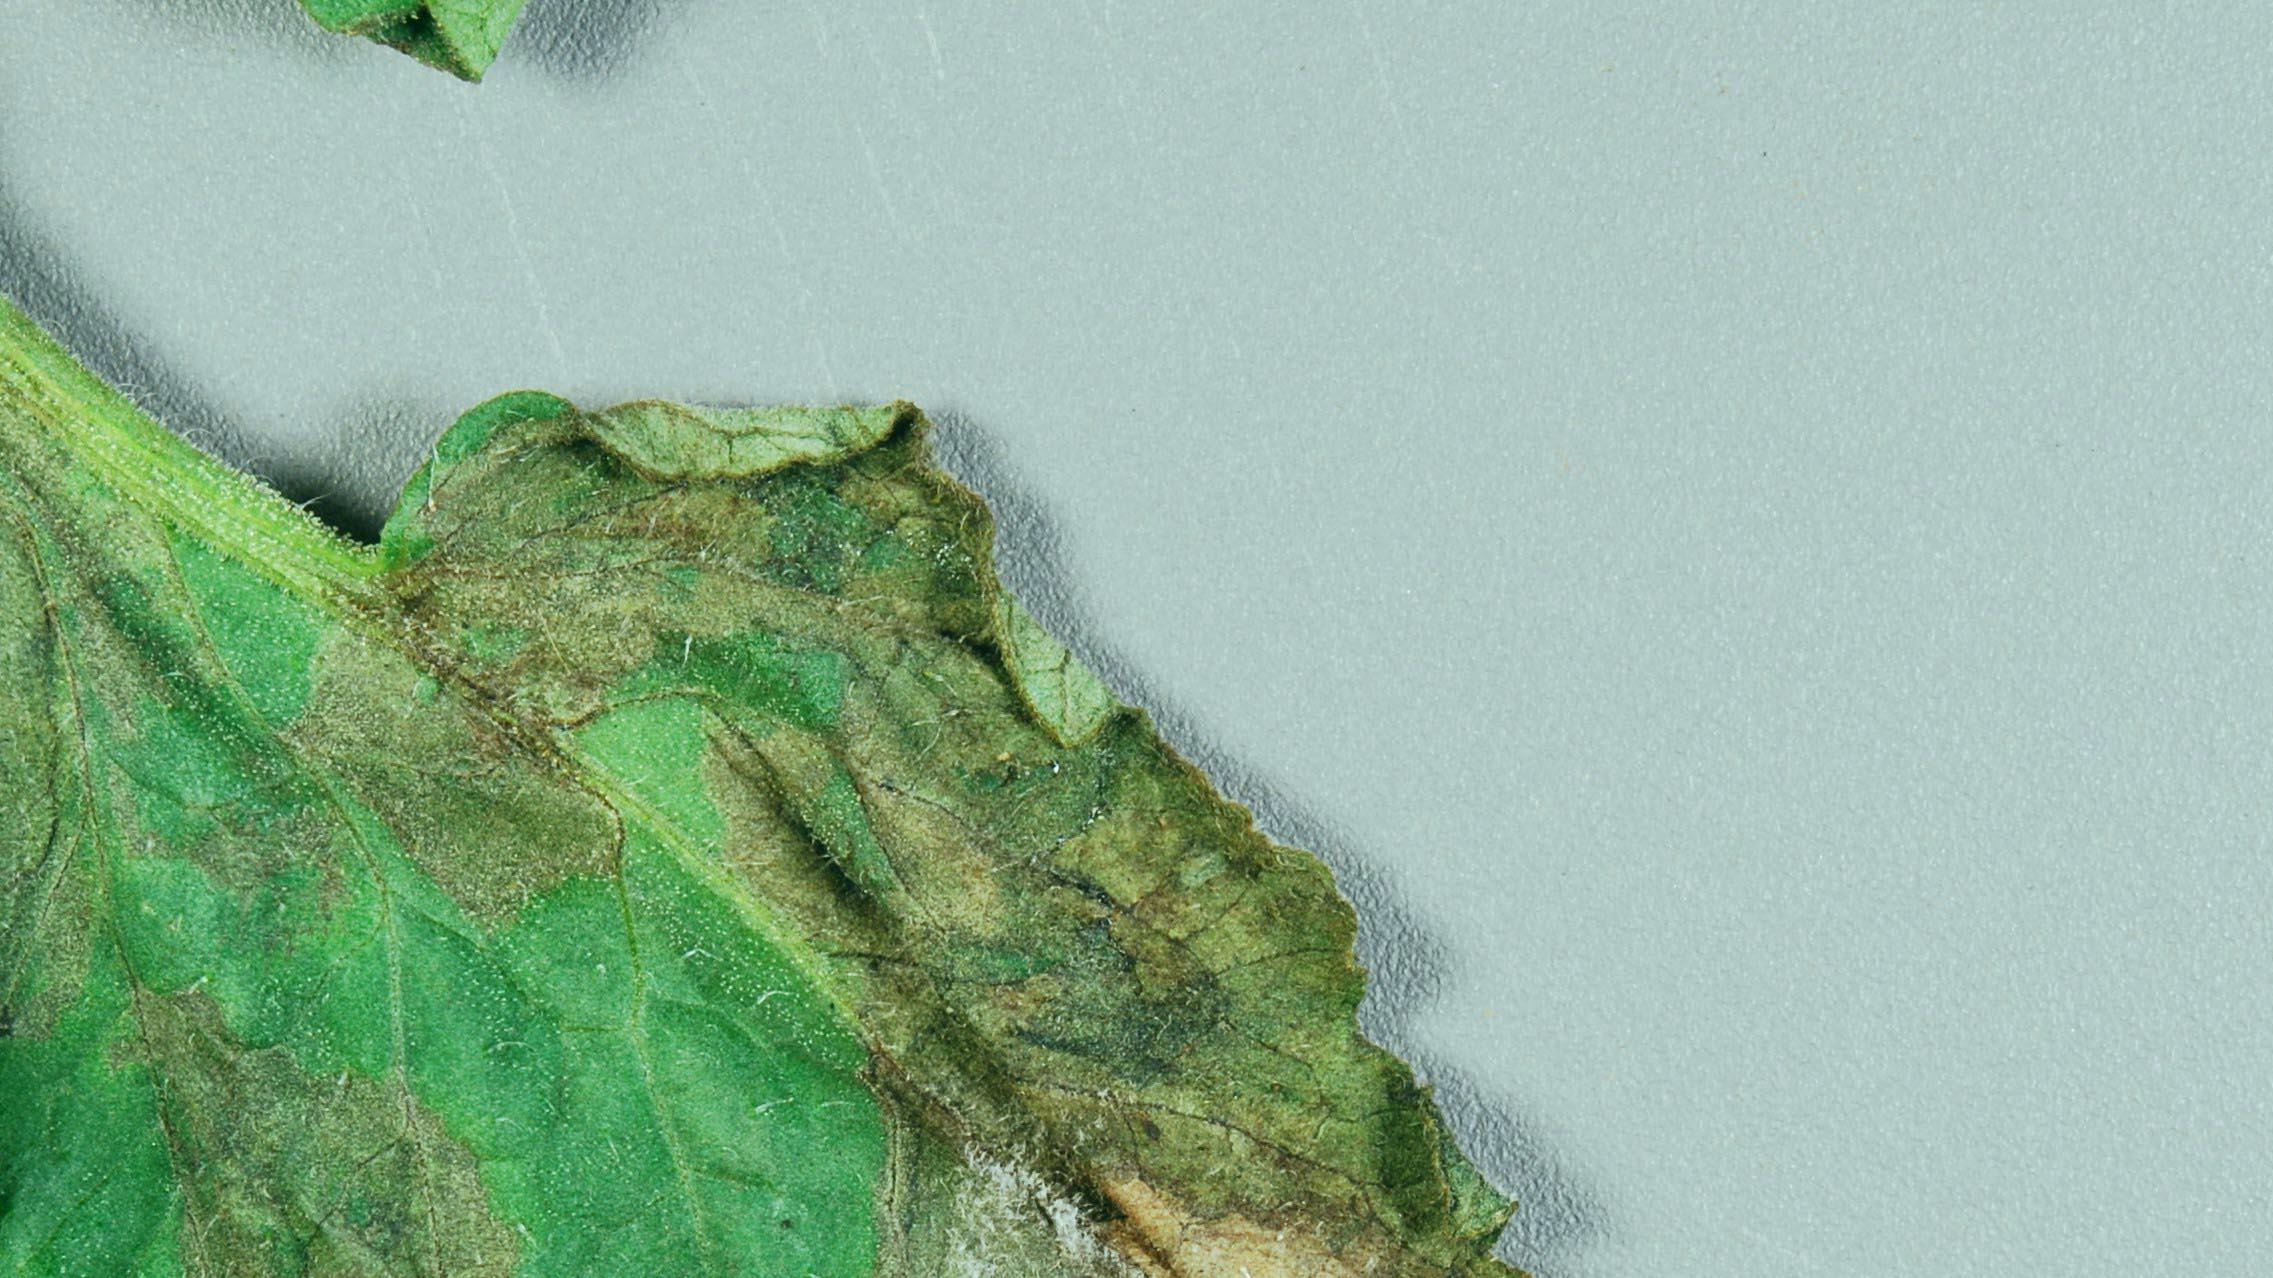Tomato leaf late blight: (0, 176, 2271, 1278)
